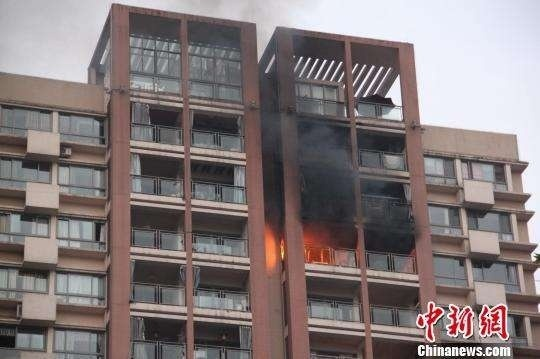fire: (260, 220, 332, 264), (261, 221, 286, 267)
